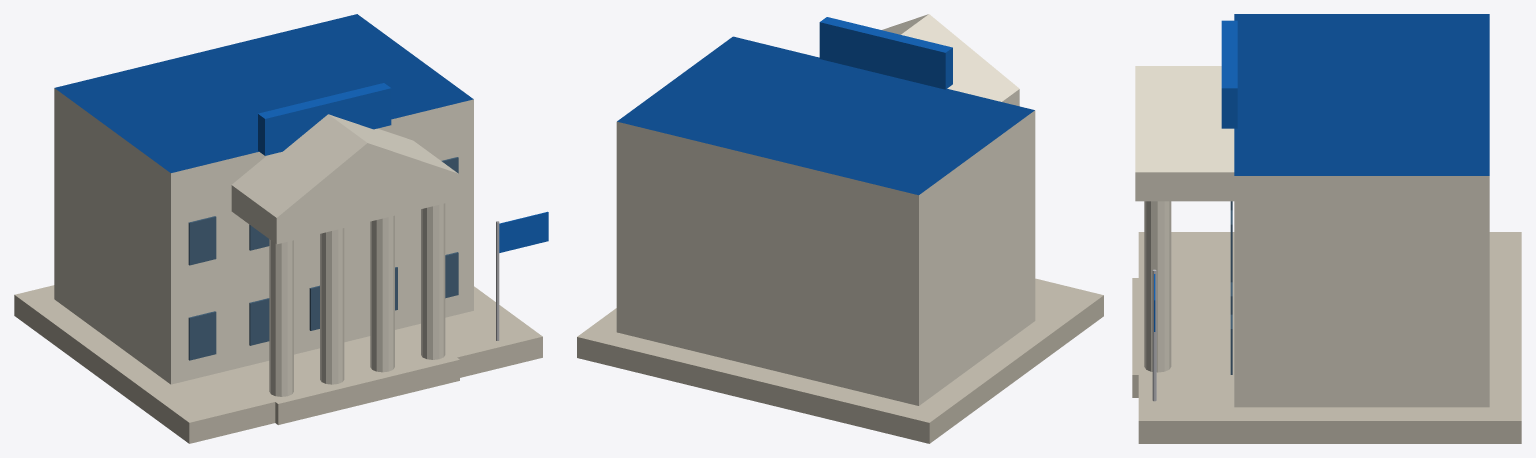
File: gov_min_utility.glb
3 views of the same model, side by side, from view 1: azimuth 30°, elevation 25°; view 2: azimuth 150°, elevation 25°; view 3: azimuth 270°, elevation 25° (orthographic). The views are drawn at different scales.
Parts seen in each view (by area): view 1: box; view 2: box; view 3: box.
Boxes of the visible parts, x1,y1,x2,y2 form: box: (14,14,548,443); box: (577,14,1103,443); box: (1132,14,1521,443).
Bounding box in the file's own units: 14.5 × 10.2 × 12.2.
